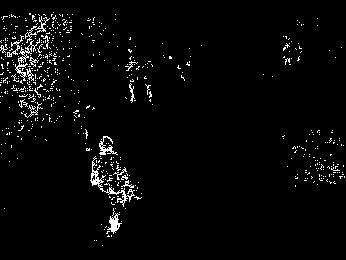person: (90, 133, 141, 248)
